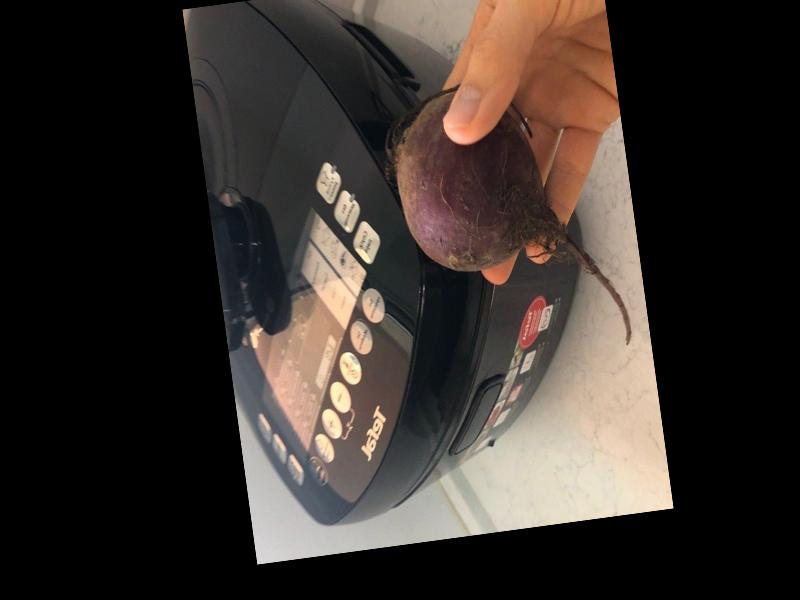Beet: (376, 69, 631, 372)
